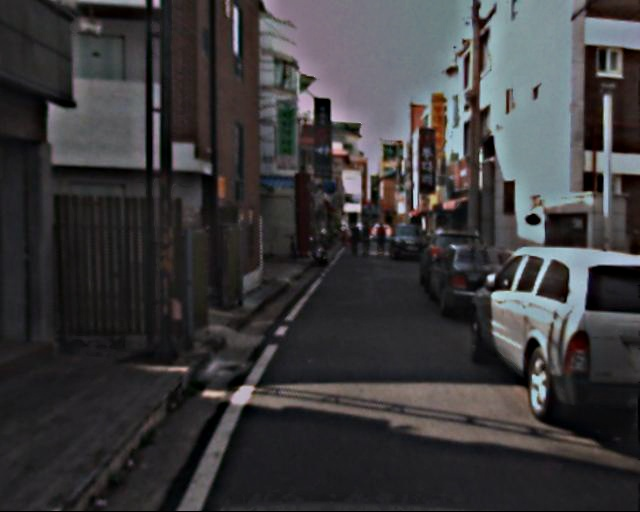person: (375, 221, 391, 261), (362, 223, 377, 260), (348, 223, 363, 259)
